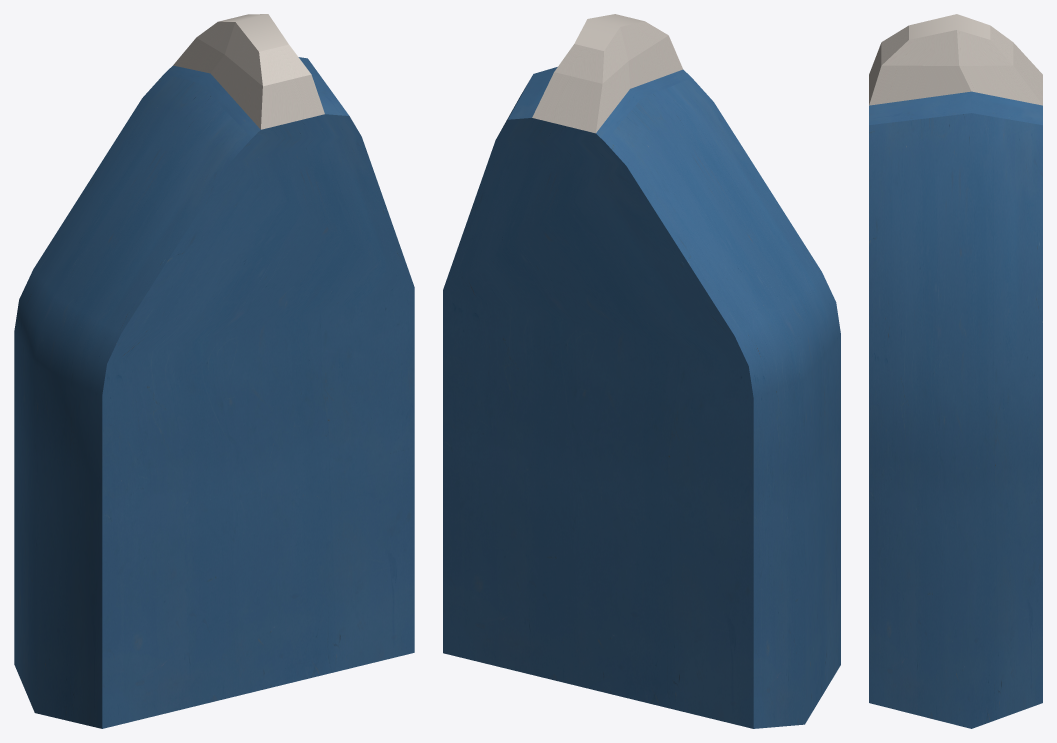
Rendered from SM_Oilbox_02.fbx.
3 views of the same model, side by side, from view 1: azimuth 30°, elevation 25°; view 2: azimuth 150°, elevation 25°; view 3: azimuth 270°, elevation 25° (orthographic).
Visible parts, largest first — view 1: SM_Oilbox_02; view 2: SM_Oilbox_02; view 3: SM_Oilbox_02.
Boxes of the visible parts, <box> form: SM_Oilbox_02: <box>14,14,414,728</box>; SM_Oilbox_02: <box>443,14,840,728</box>; SM_Oilbox_02: <box>869,14,1042,728</box>.
Bounding box in the file's own units: 18.17 × 32.73 × 8.04.
Materials: 2 (2 with a texture image).
